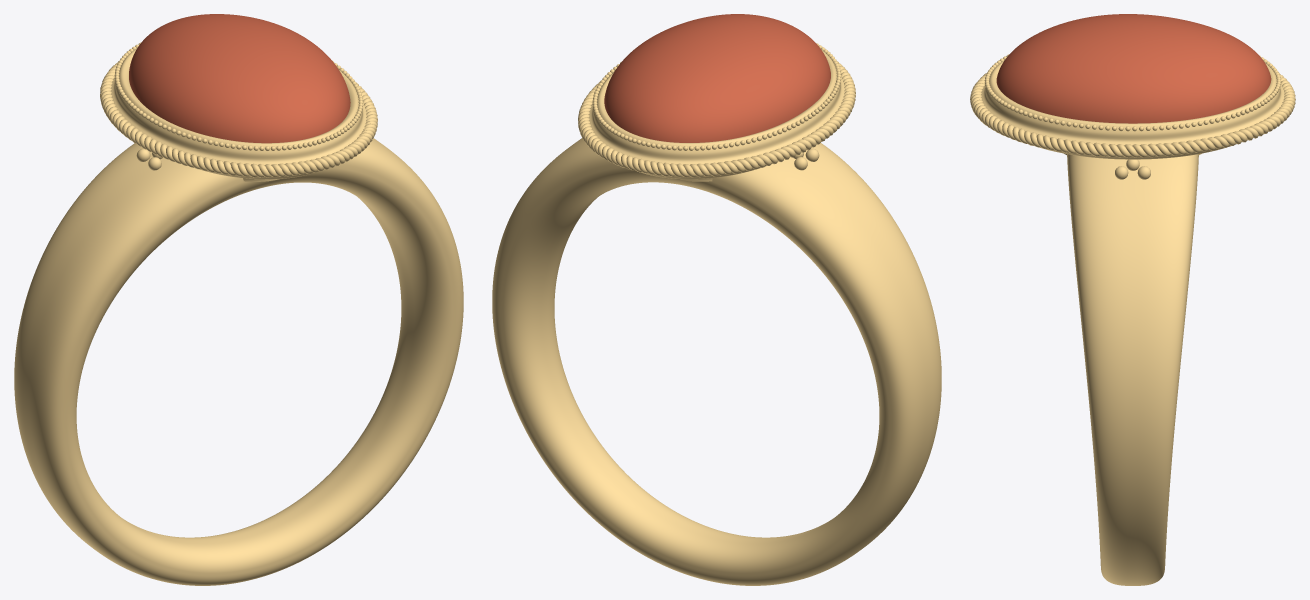
File: vyoma-heritage-moonga.glb
3 views of the same model, side by side, from view 1: azimuth 30°, elevation 25°; view 2: azimuth 150°, elevation 25°; view 3: azimuth 270°, elevation 25° (orthographic).
Visible parts, largest first — view 1: shank, stone, metal; view 2: shank, stone, metal; view 3: shank, stone, metal.
Boxes of the visible parts, bbox=[...] form: shank: bbox=[14, 138, 463, 585]; stone: bbox=[129, 14, 350, 143]; metal: bbox=[100, 42, 377, 181]; shank: bbox=[492, 138, 941, 585]; stone: bbox=[604, 14, 830, 142]; metal: bbox=[578, 43, 855, 181]; shank: bbox=[1067, 154, 1198, 585]; stone: bbox=[996, 14, 1271, 123]; metal: bbox=[970, 54, 1295, 179].
Size of the model in its own units: 2.14 by 2.58 by 1.43.
